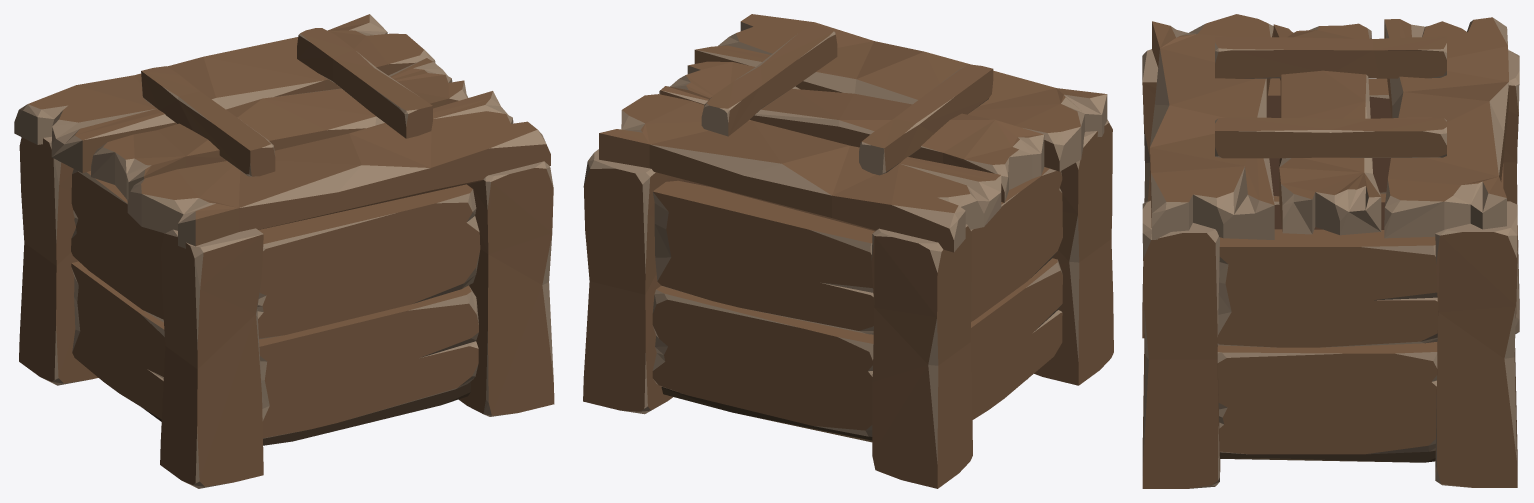
File: Wooden_box_B_01.FBX
3 views of the same model, side by side, from view 1: azimuth 30°, elevation 25°; view 2: azimuth 150°, elevation 25°; view 3: azimuth 270°, elevation 25° (orthographic). The views are drawn at different scales.
Parts seen in each view (by area): view 1: Wooden_box_B_01; view 2: Wooden_box_B_01; view 3: Wooden_box_B_01.
Boxes of the visible parts, x1,y1,x2,y2 form: Wooden_box_B_01: (14,14,554,488); Wooden_box_B_01: (583,14,1113,488); Wooden_box_B_01: (1142,14,1519,488).
Bounding box in the file's own units: 1.39 × 1.06 × 1.16.
